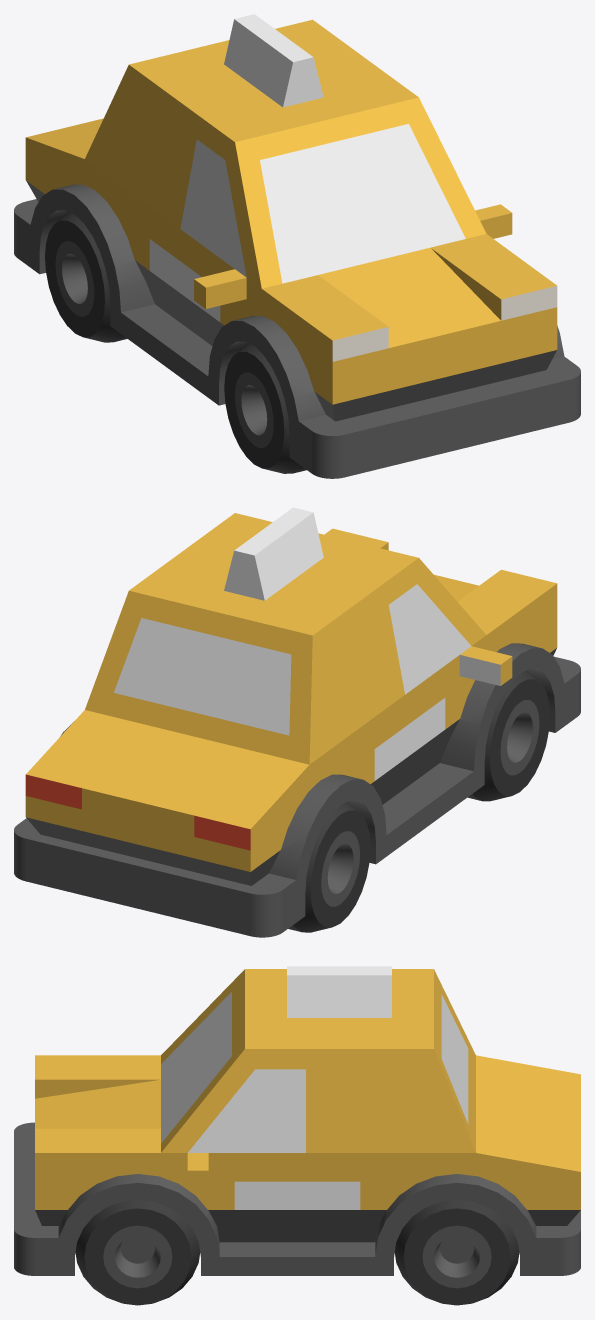
The model's file is taxi.fbx.
3 views of the same model, one above another, from view 1: azimuth 30°, elevation 25°; view 2: azimuth 150°, elevation 25°; view 3: azimuth 270°, elevation 25° (orthographic). The views are drawn at different scales.
Visible parts, largest first — view 1: taxi; view 2: taxi; view 3: taxi.
Boxes of the visible parts, bbox=[...] form: taxi: bbox=[14, 14, 580, 478]; taxi: bbox=[14, 507, 580, 937]; taxi: bbox=[14, 966, 580, 1305].
Bounding box in the file's own units: 11.25 × 11.25 × 20.25.
